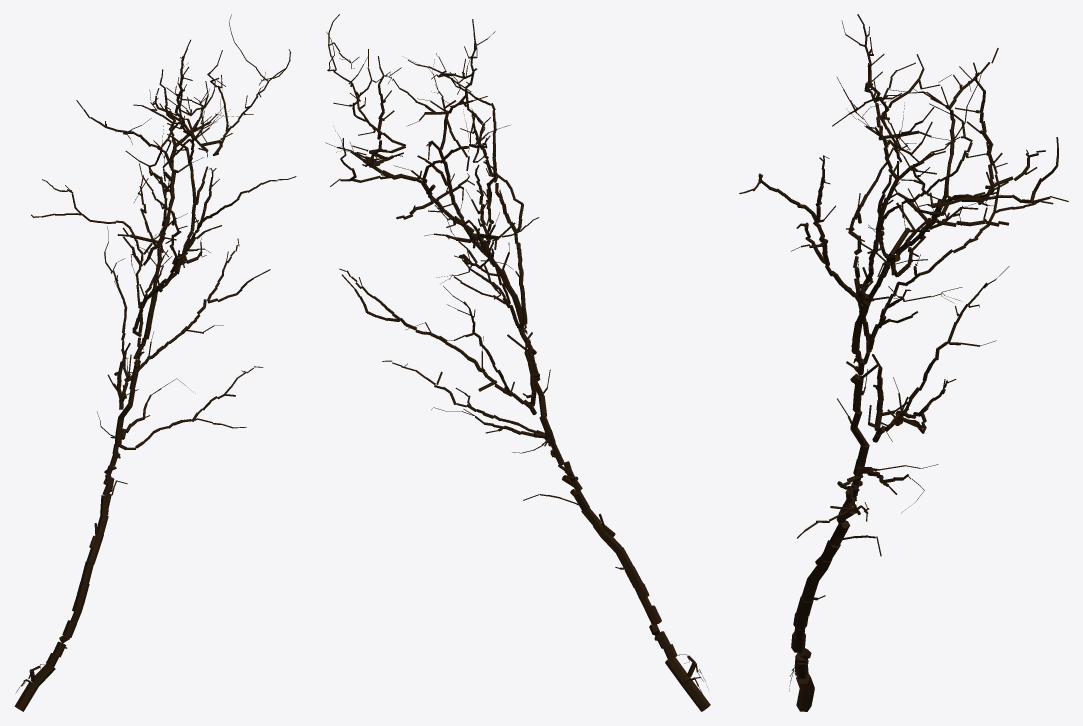
The model's file is tree_541_no_leaf.obj.
3 views of the same model, side by side, from view 1: azimuth 30°, elevation 25°; view 2: azimuth 150°, elevation 25°; view 3: azimuth 270°, elevation 25° (orthographic). The views are drawn at different scales.
Parts seen in each view (by area): view 1: TrunkAndBranches; view 2: TrunkAndBranches; view 3: TrunkAndBranches.
Boxes of the visible parts, x1,y1,x2,y2 form: TrunkAndBranches: (14,14,296,711); TrunkAndBranches: (325,14,710,711); TrunkAndBranches: (739,14,1068,711).
Size of the model in its own units: 5.3 by 9.66 by 3.49.
